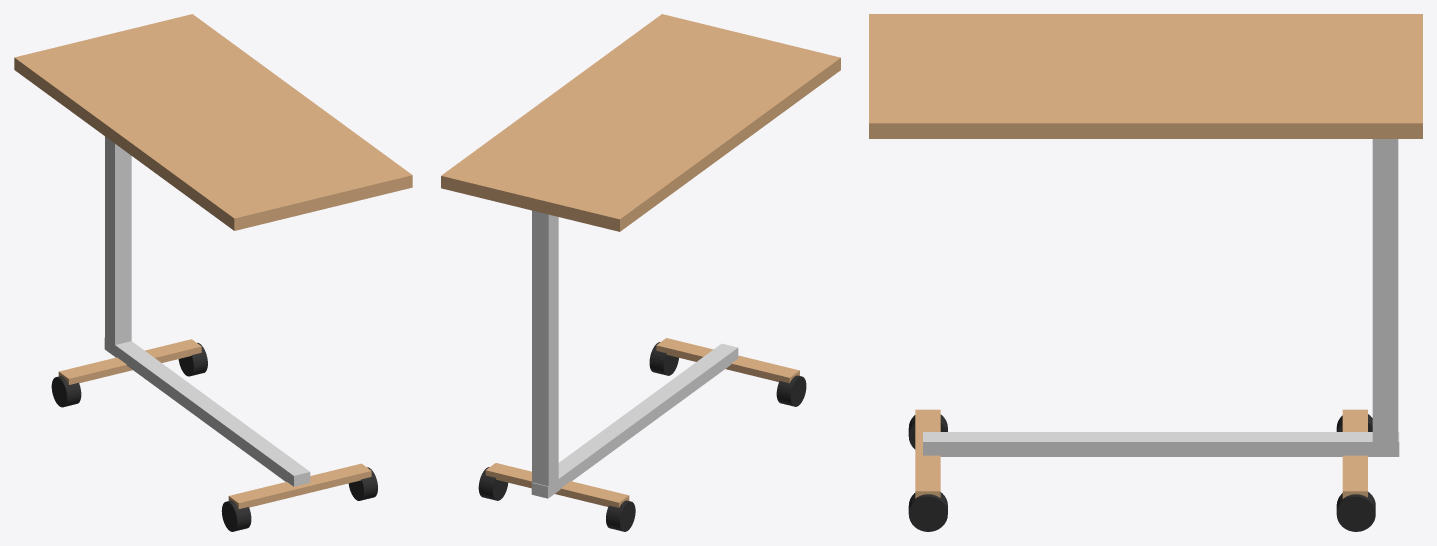
File: bed_table.fbx
3 views of the same model, side by side, from view 1: azimuth 30°, elevation 25°; view 2: azimuth 150°, elevation 25°; view 3: azimuth 270°, elevation 25° (orthographic). The views are drawn at different scales.
Visible parts, largest first — view 1: Cube.004, Cube, Cube.003, Cube.001, Cube.002, Cylinder, Cylinder.001, Cylinder.003, Cylinder.002; view 2: Cube.004, Cube.003, Cube, Cube.001, Cube.002, Cylinder.001, Cylinder, Cylinder.002, Cylinder.003; view 3: Cube.004, Cube, Cube.003, Cube.001, Cube.002, Cylinder.003, Cylinder.002.
Boxes of the visible parts, <box> form: Cube.004: <box>14,14,412,230</box>; Cube: <box>104,337,310,486</box>; Cube.003: <box>105,136,131,344</box>; Cube.001: <box>228,463,371,508</box>; Cube.002: <box>58,339,201,384</box>; Cylinder: <box>51,376,81,407</box>; Cylinder.001: <box>221,500,251,531</box>; Cylinder.003: <box>348,467,377,500</box>; Cylinder.002: <box>178,342,207,376</box>; Cube.004: <box>441,14,840,231</box>; Cube.003: <box>532,211,558,486</box>; Cube: <box>531,343,738,498</box>; Cube.001: <box>656,338,799,383</box>; Cube.002: <box>485,463,629,507</box>; Cylinder.001: <box>776,375,806,406</box>; Cylinder: <box>606,500,635,531</box>; Cylinder.002: <box>478,467,508,500</box>; Cylinder.003: <box>649,342,678,375</box>; Cube.004: <box>869,14,1422,138</box>; Cube: <box>923,432,1399,456</box>; Cube.003: <box>1372,139,1398,441</box>; Cube.001: <box>915,409,940,498</box>; Cube.002: <box>1342,409,1367,498</box>; Cylinder.003: <box>908,492,947,531</box>; Cylinder.002: <box>1336,492,1375,531</box>.
Size of the model in its own units: 364 by 652 by 779.
